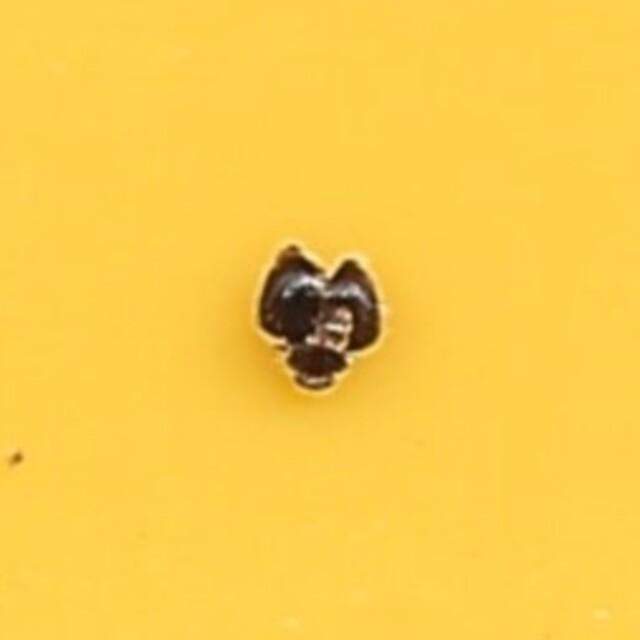Coleoptera: (253, 243, 387, 397)
